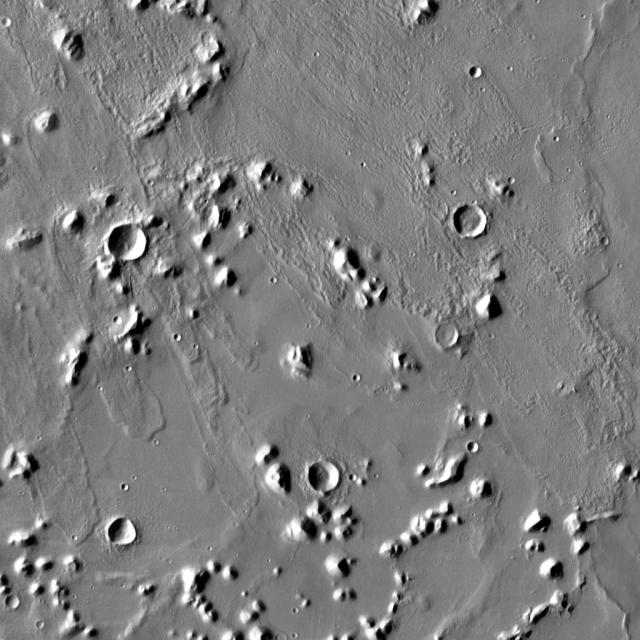crater: (109, 225, 147, 263), (453, 207, 488, 240), (307, 462, 337, 491), (109, 519, 137, 547), (437, 327, 459, 349), (469, 66, 482, 78), (7, 596, 20, 608), (467, 441, 478, 452), (5, 18, 14, 26), (115, 316, 124, 324), (38, 620, 46, 628), (273, 474, 281, 482), (602, 236, 610, 243), (352, 475, 359, 483), (353, 374, 360, 382), (173, 333, 180, 341), (508, 177, 515, 184), (122, 484, 129, 491), (553, 136, 559, 142), (270, 278, 276, 284)
